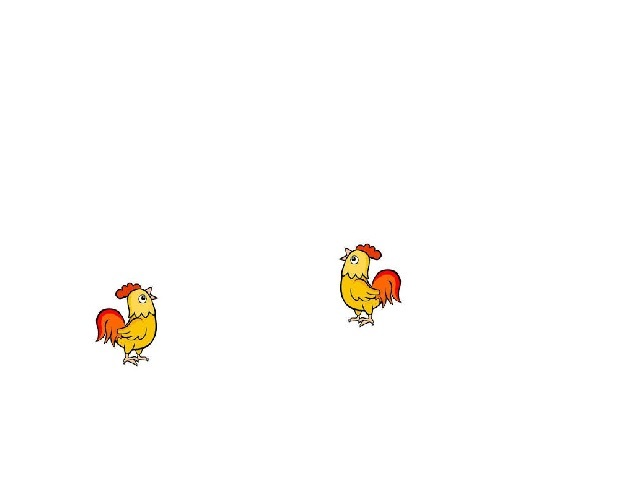crown: (112, 281, 140, 297), (357, 241, 378, 257)
eyes: (136, 293, 150, 308), (351, 254, 358, 264)
feet: (123, 352, 152, 368), (350, 312, 376, 329)
tail: (99, 310, 124, 345), (375, 269, 397, 306)
